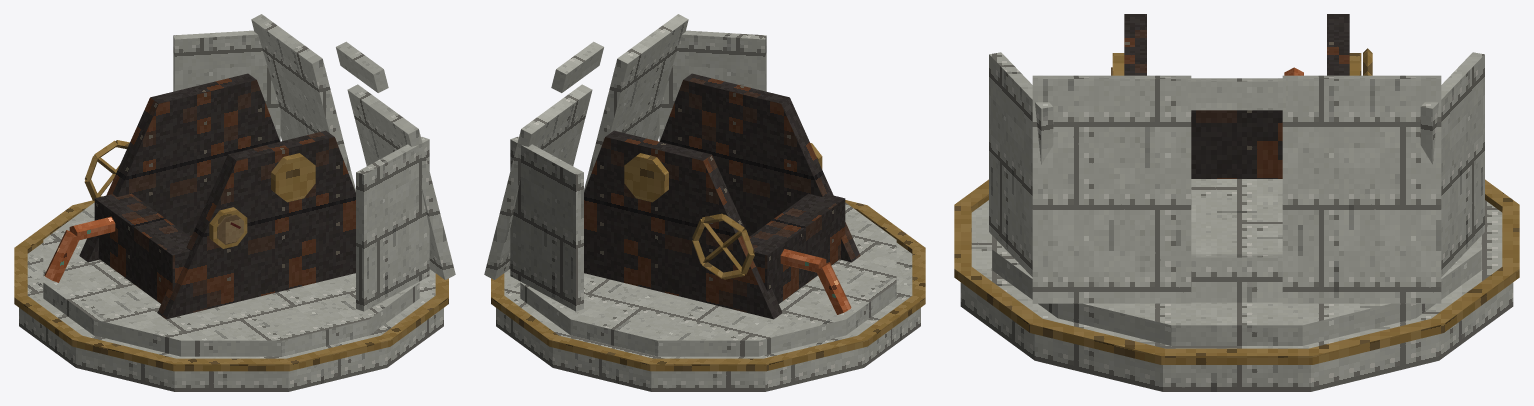
The model's file is SM_TowerGun_Mount.fbx.
3 views of the same model, side by side, from view 1: azimuth 30°, elevation 25°; view 2: azimuth 150°, elevation 25°; view 3: azimuth 270°, elevation 25° (orthographic). The views are drawn at different scales.
Visible parts, largest first — view 1: SM_TowerGun_Mount; view 2: SM_TowerGun_Mount; view 3: SM_TowerGun_Mount.
Boxes of the visible parts, x1,y1,x2,y2 form: SM_TowerGun_Mount: (14,14,455,391); SM_TowerGun_Mount: (484,14,925,391); SM_TowerGun_Mount: (954,14,1519,391).
Size of the model in its own units: 346 by 188 by 346.
